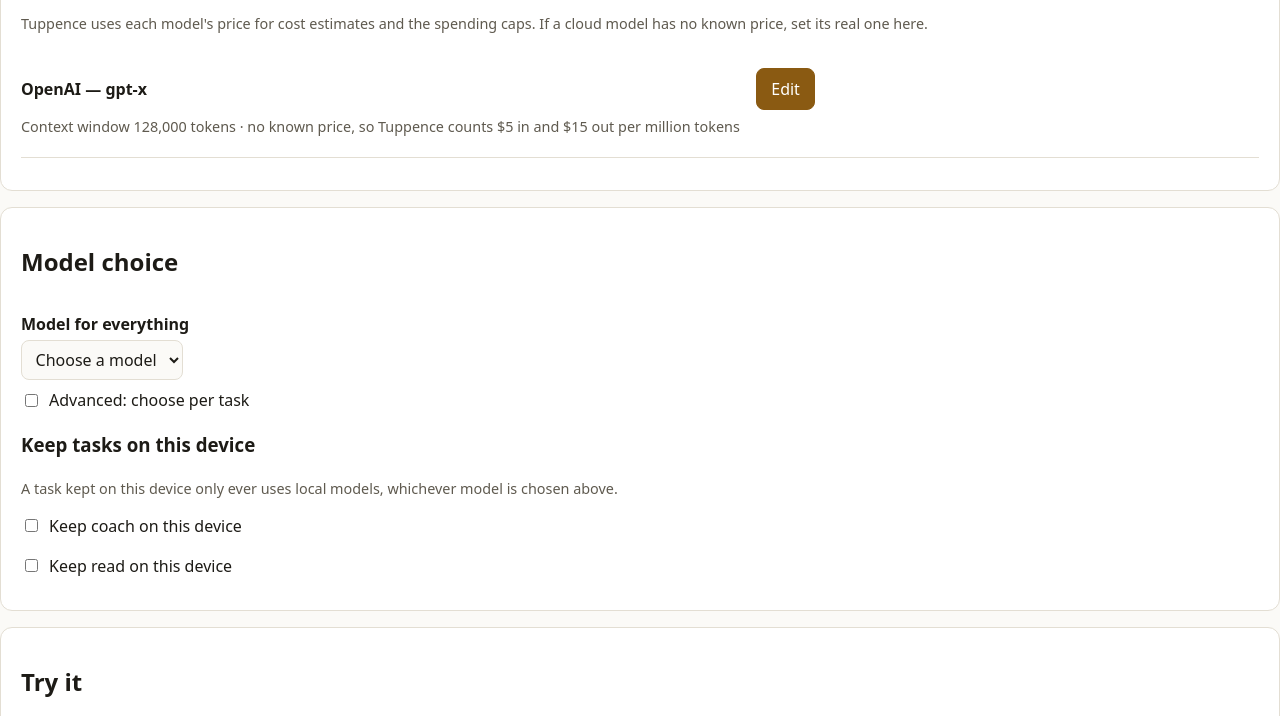
Test: shows the 403 detail when a write is refused
(page scrolled)
Click the checkbox labelled "Advanced: choose per task".
click(32, 400)  # box [25,394,38,407]
(page scrolled)
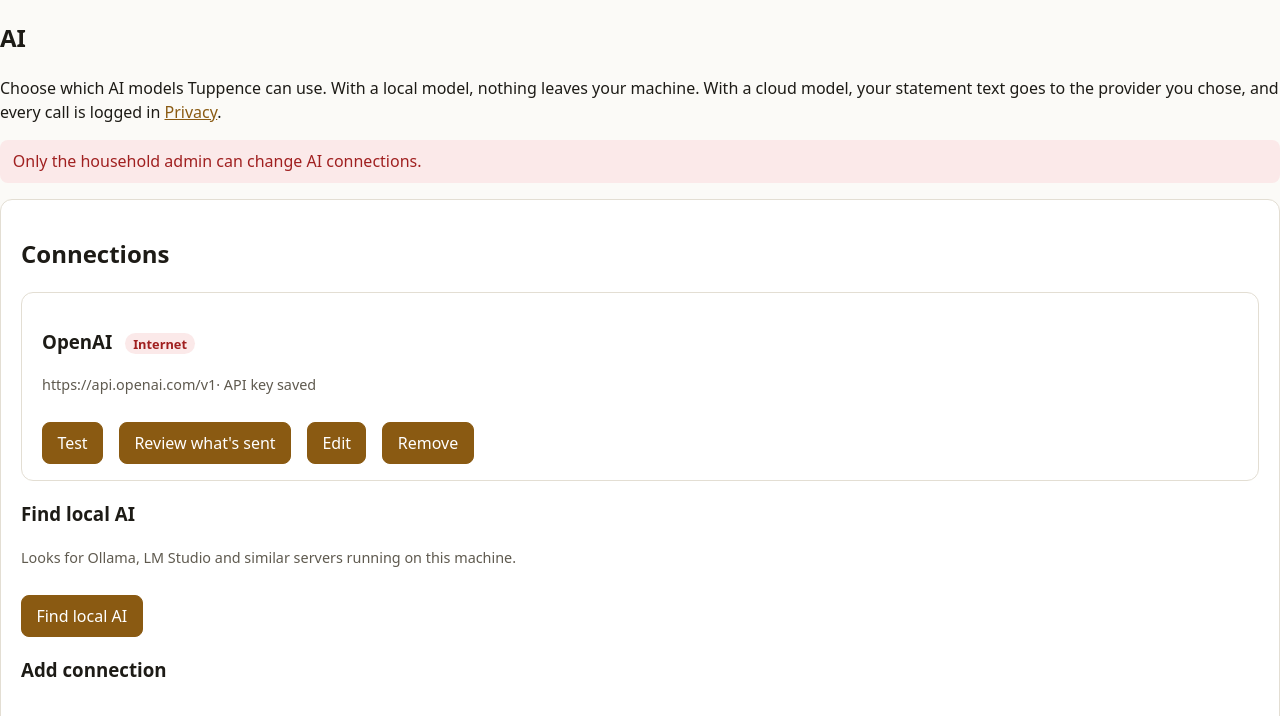
Now the text "Only the household admin can change AI connections." is shown, box [0,140,1279,183]
